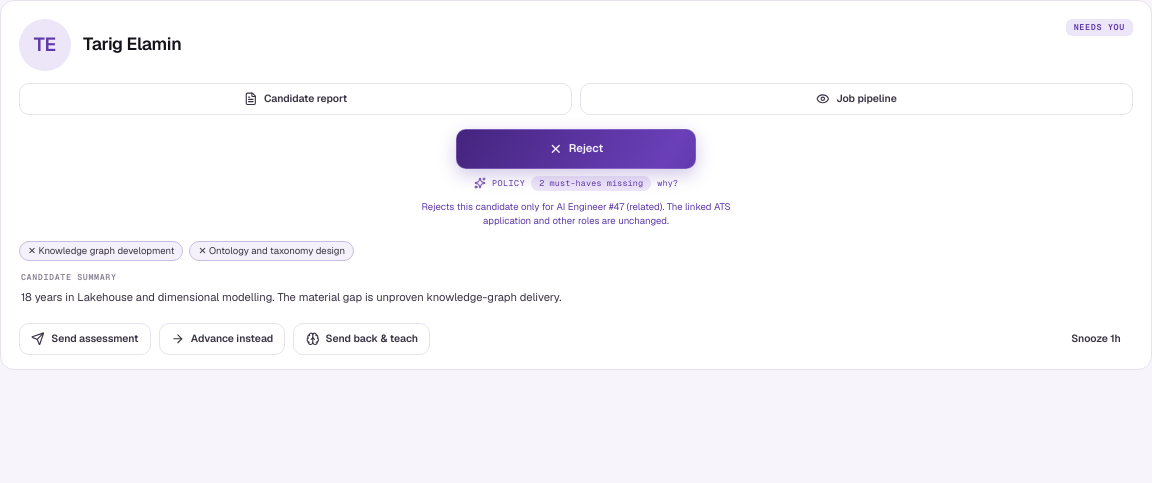
AgentDecisionCard decision narrative › labels a policy recommendation with a rule chip, hides confidence, and gates the causal sentence behind why?
Expected: the text "Policy" is shown, [492, 178, 525, 188]
Expected: the text "2 must-haves missing" is shown, [531, 176, 651, 191]
Step 1. Click the button "why?" → coordinates (668, 183), box [657, 177, 678, 190]
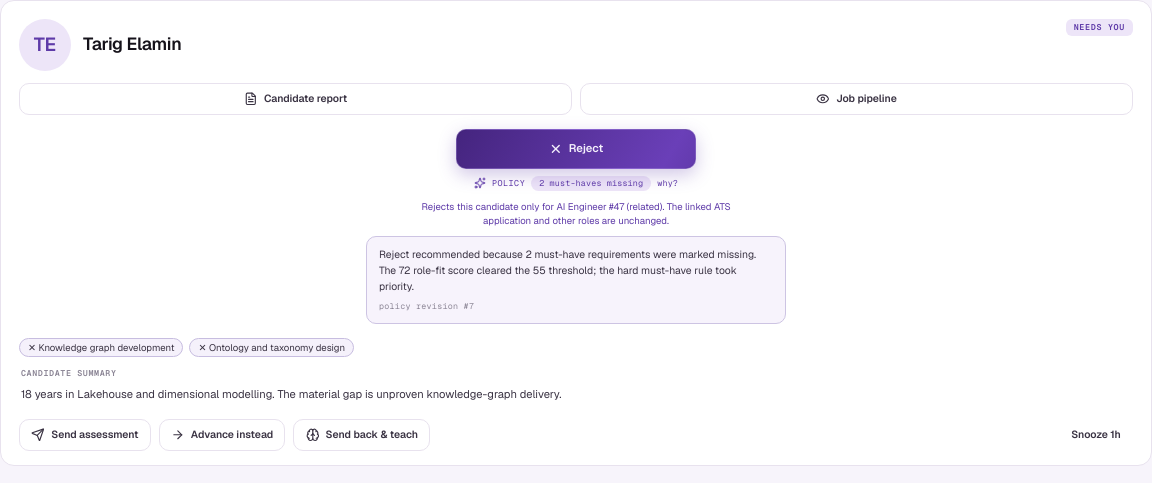
Expected: the text "✕ Knowledge graph development" is shown, [19, 338, 184, 357]
Result: the text "2 must-have requirements were marked missing" is shown at [379, 248, 756, 293]
Result: the text "policy revision #7" is shown at [379, 301, 474, 311]
